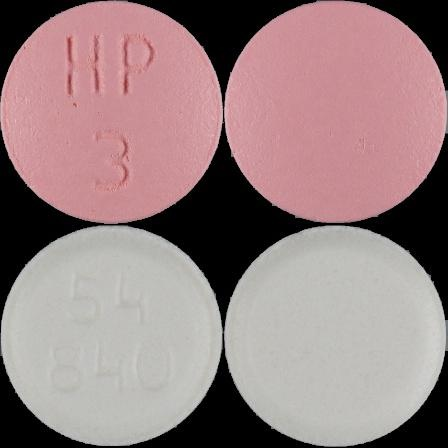43353-742: (0, 0, 224, 224)
